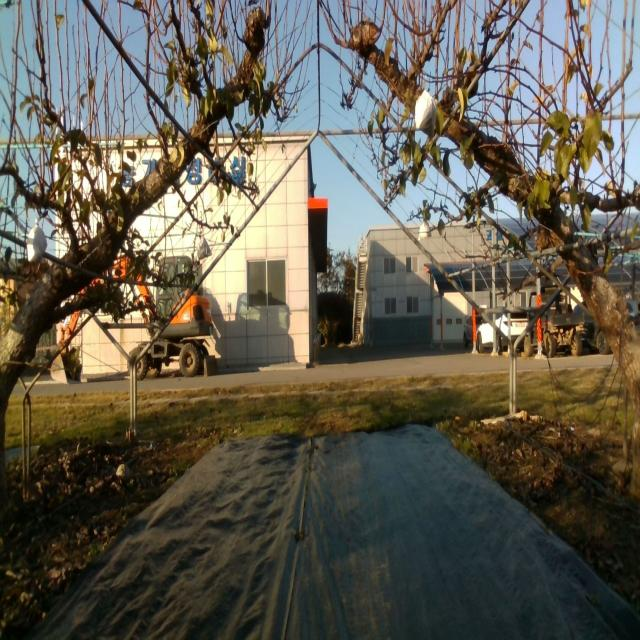pearbags: (414, 89, 437, 136), (28, 218, 48, 264), (197, 235, 213, 261), (418, 222, 432, 243)
